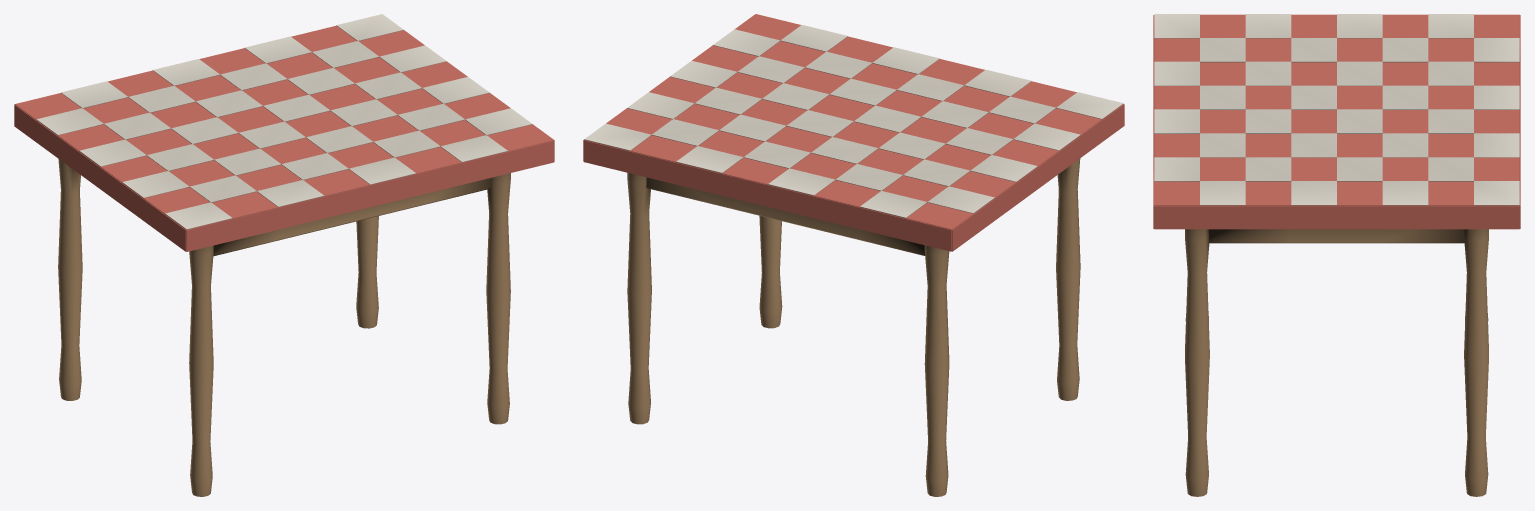
Rendered from nd_dinner_table.glb.
The picture shows the model from 3 angles, left to right: view 1: azimuth 30°, elevation 25°; view 2: azimuth 150°, elevation 25°; view 3: azimuth 270°, elevation 25°; orthographic projection. The views are drawn at different scales.
Visible parts, largest first — view 1: PART; view 2: PART; view 3: PART.
Part boxes in pixels (x1,y1,x2,y2): PART: (14,14,554,496); PART: (583,14,1124,496); PART: (1153,14,1520,496).
Size of the model in its own units: 0.894 by 0.6651 by 0.724.
